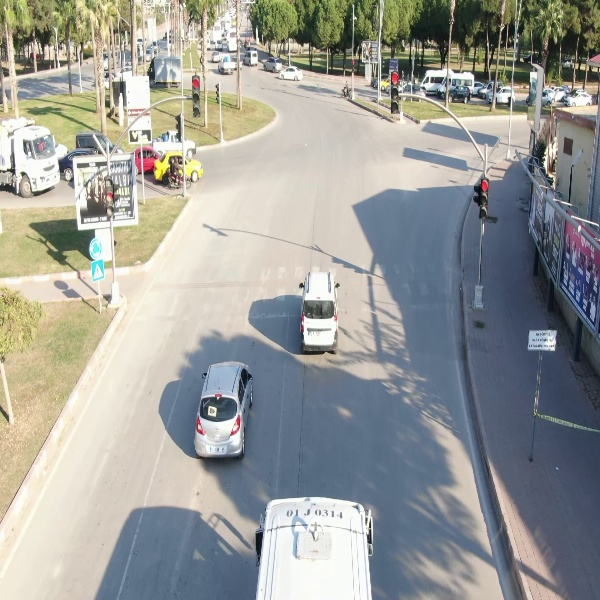car: (191, 358, 256, 459), (298, 266, 339, 356), (487, 85, 517, 106), (563, 89, 594, 108), (446, 83, 474, 104), (277, 65, 304, 83), (239, 48, 260, 68), (262, 56, 284, 73), (211, 50, 222, 64)
